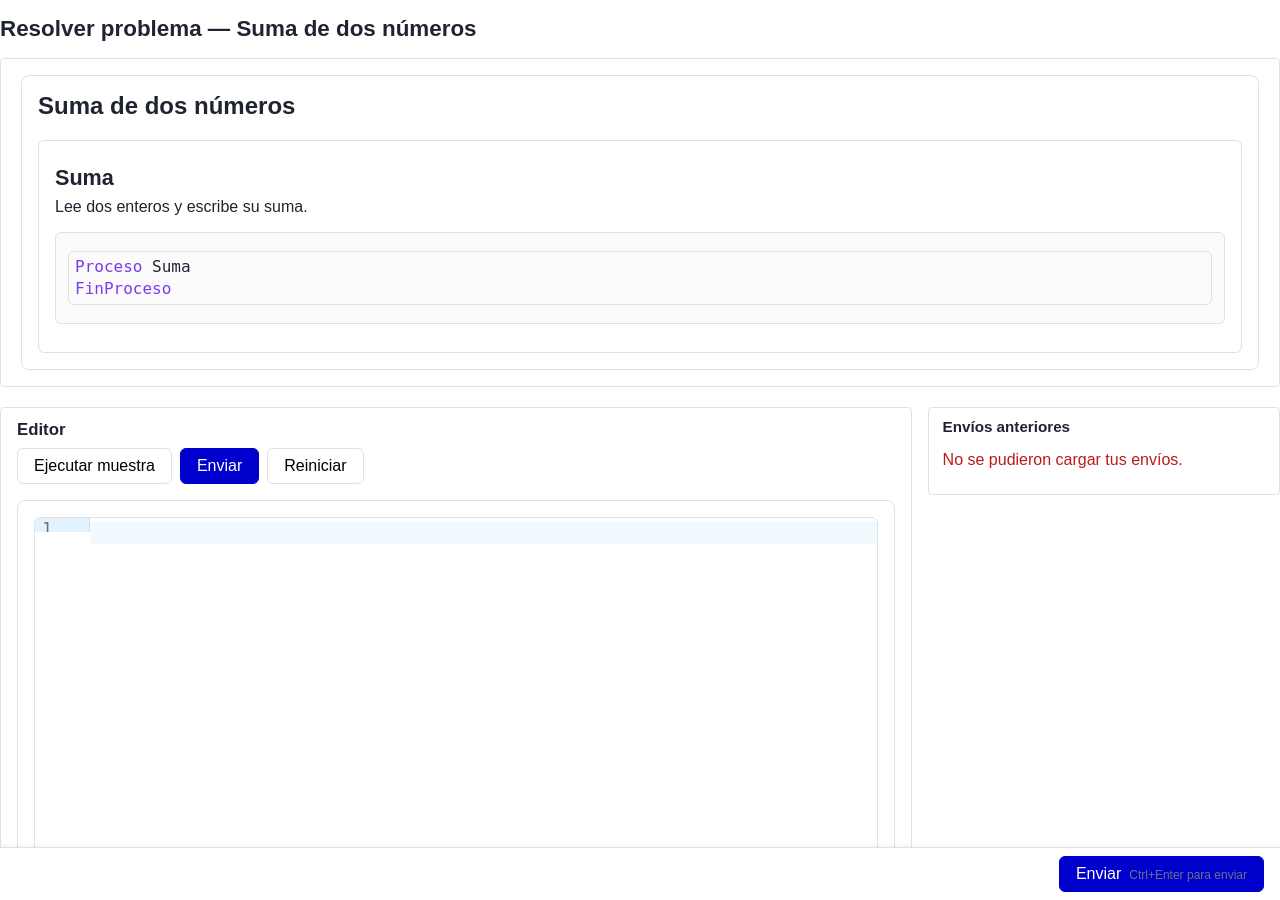
Test: practice sandbox › shows the suggested fix when TLE exceeds the step budget
Expected: the heading "Suma de dos números" is shown, left=38, top=92, right=295, bottom=119
Click the button "Ejecutar muestra": (94, 466) left=17, top=448, right=172, bottom=484
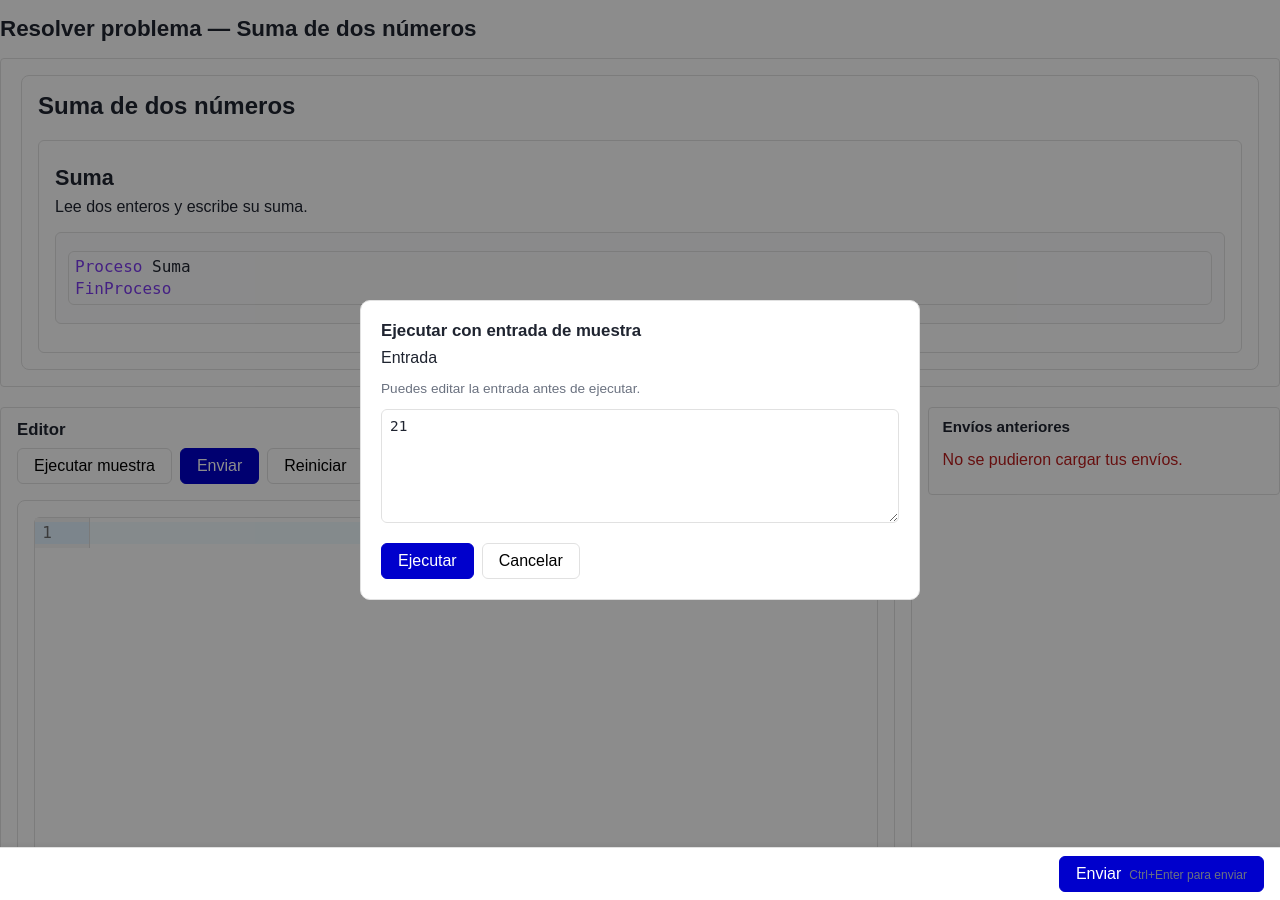
Expected: the dialog is shown, left=360, top=300, right=920, bottom=600
Click the button "Ejecutar": (427, 561) left=381, top=543, right=474, bottom=579
(page scrolled)
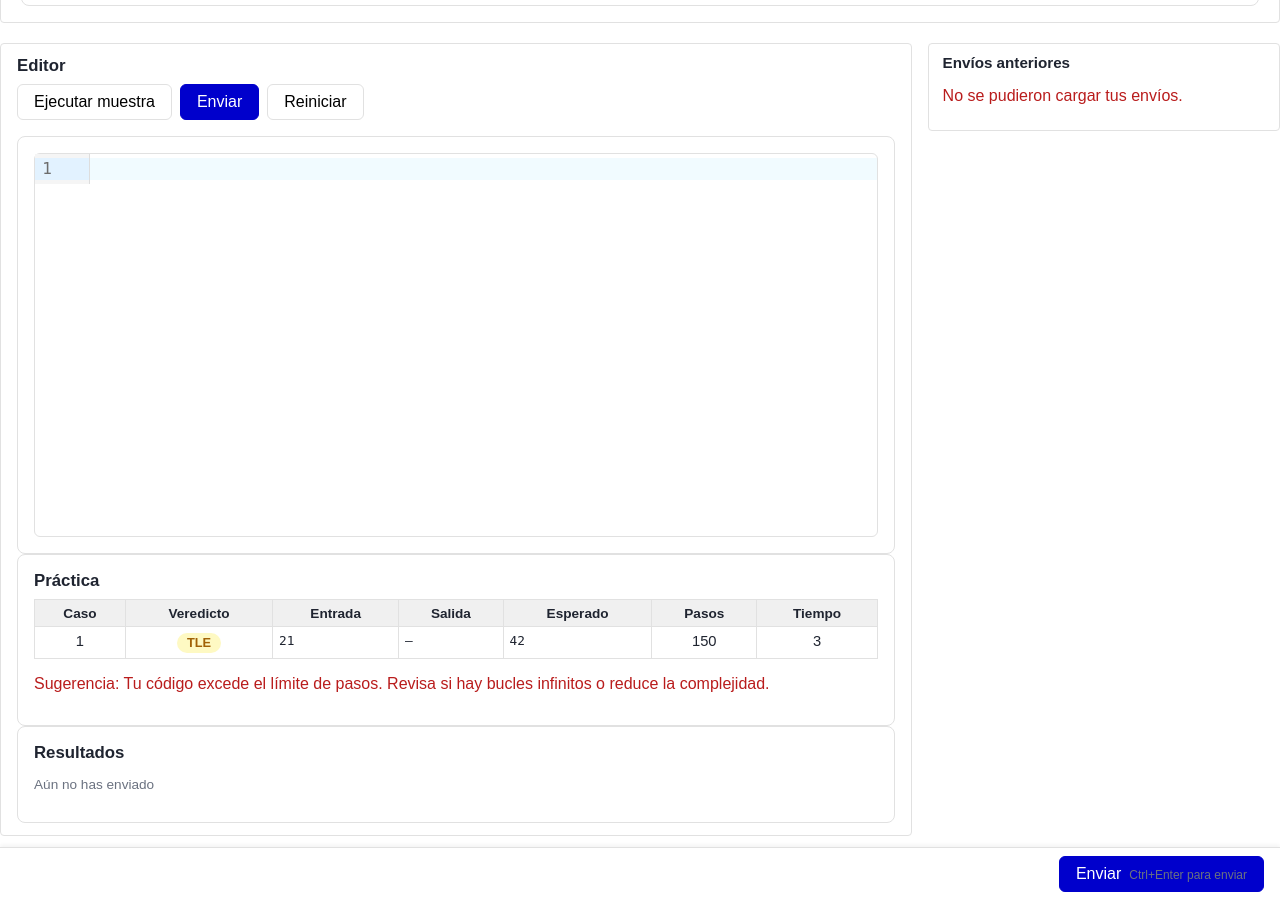
Expected: the text "Sugerencia: Tu código excede el límite de pasos. Revisa si hay bucles infinitos o reduce la complejidad." is shown, left=34, top=676, right=770, bottom=692
